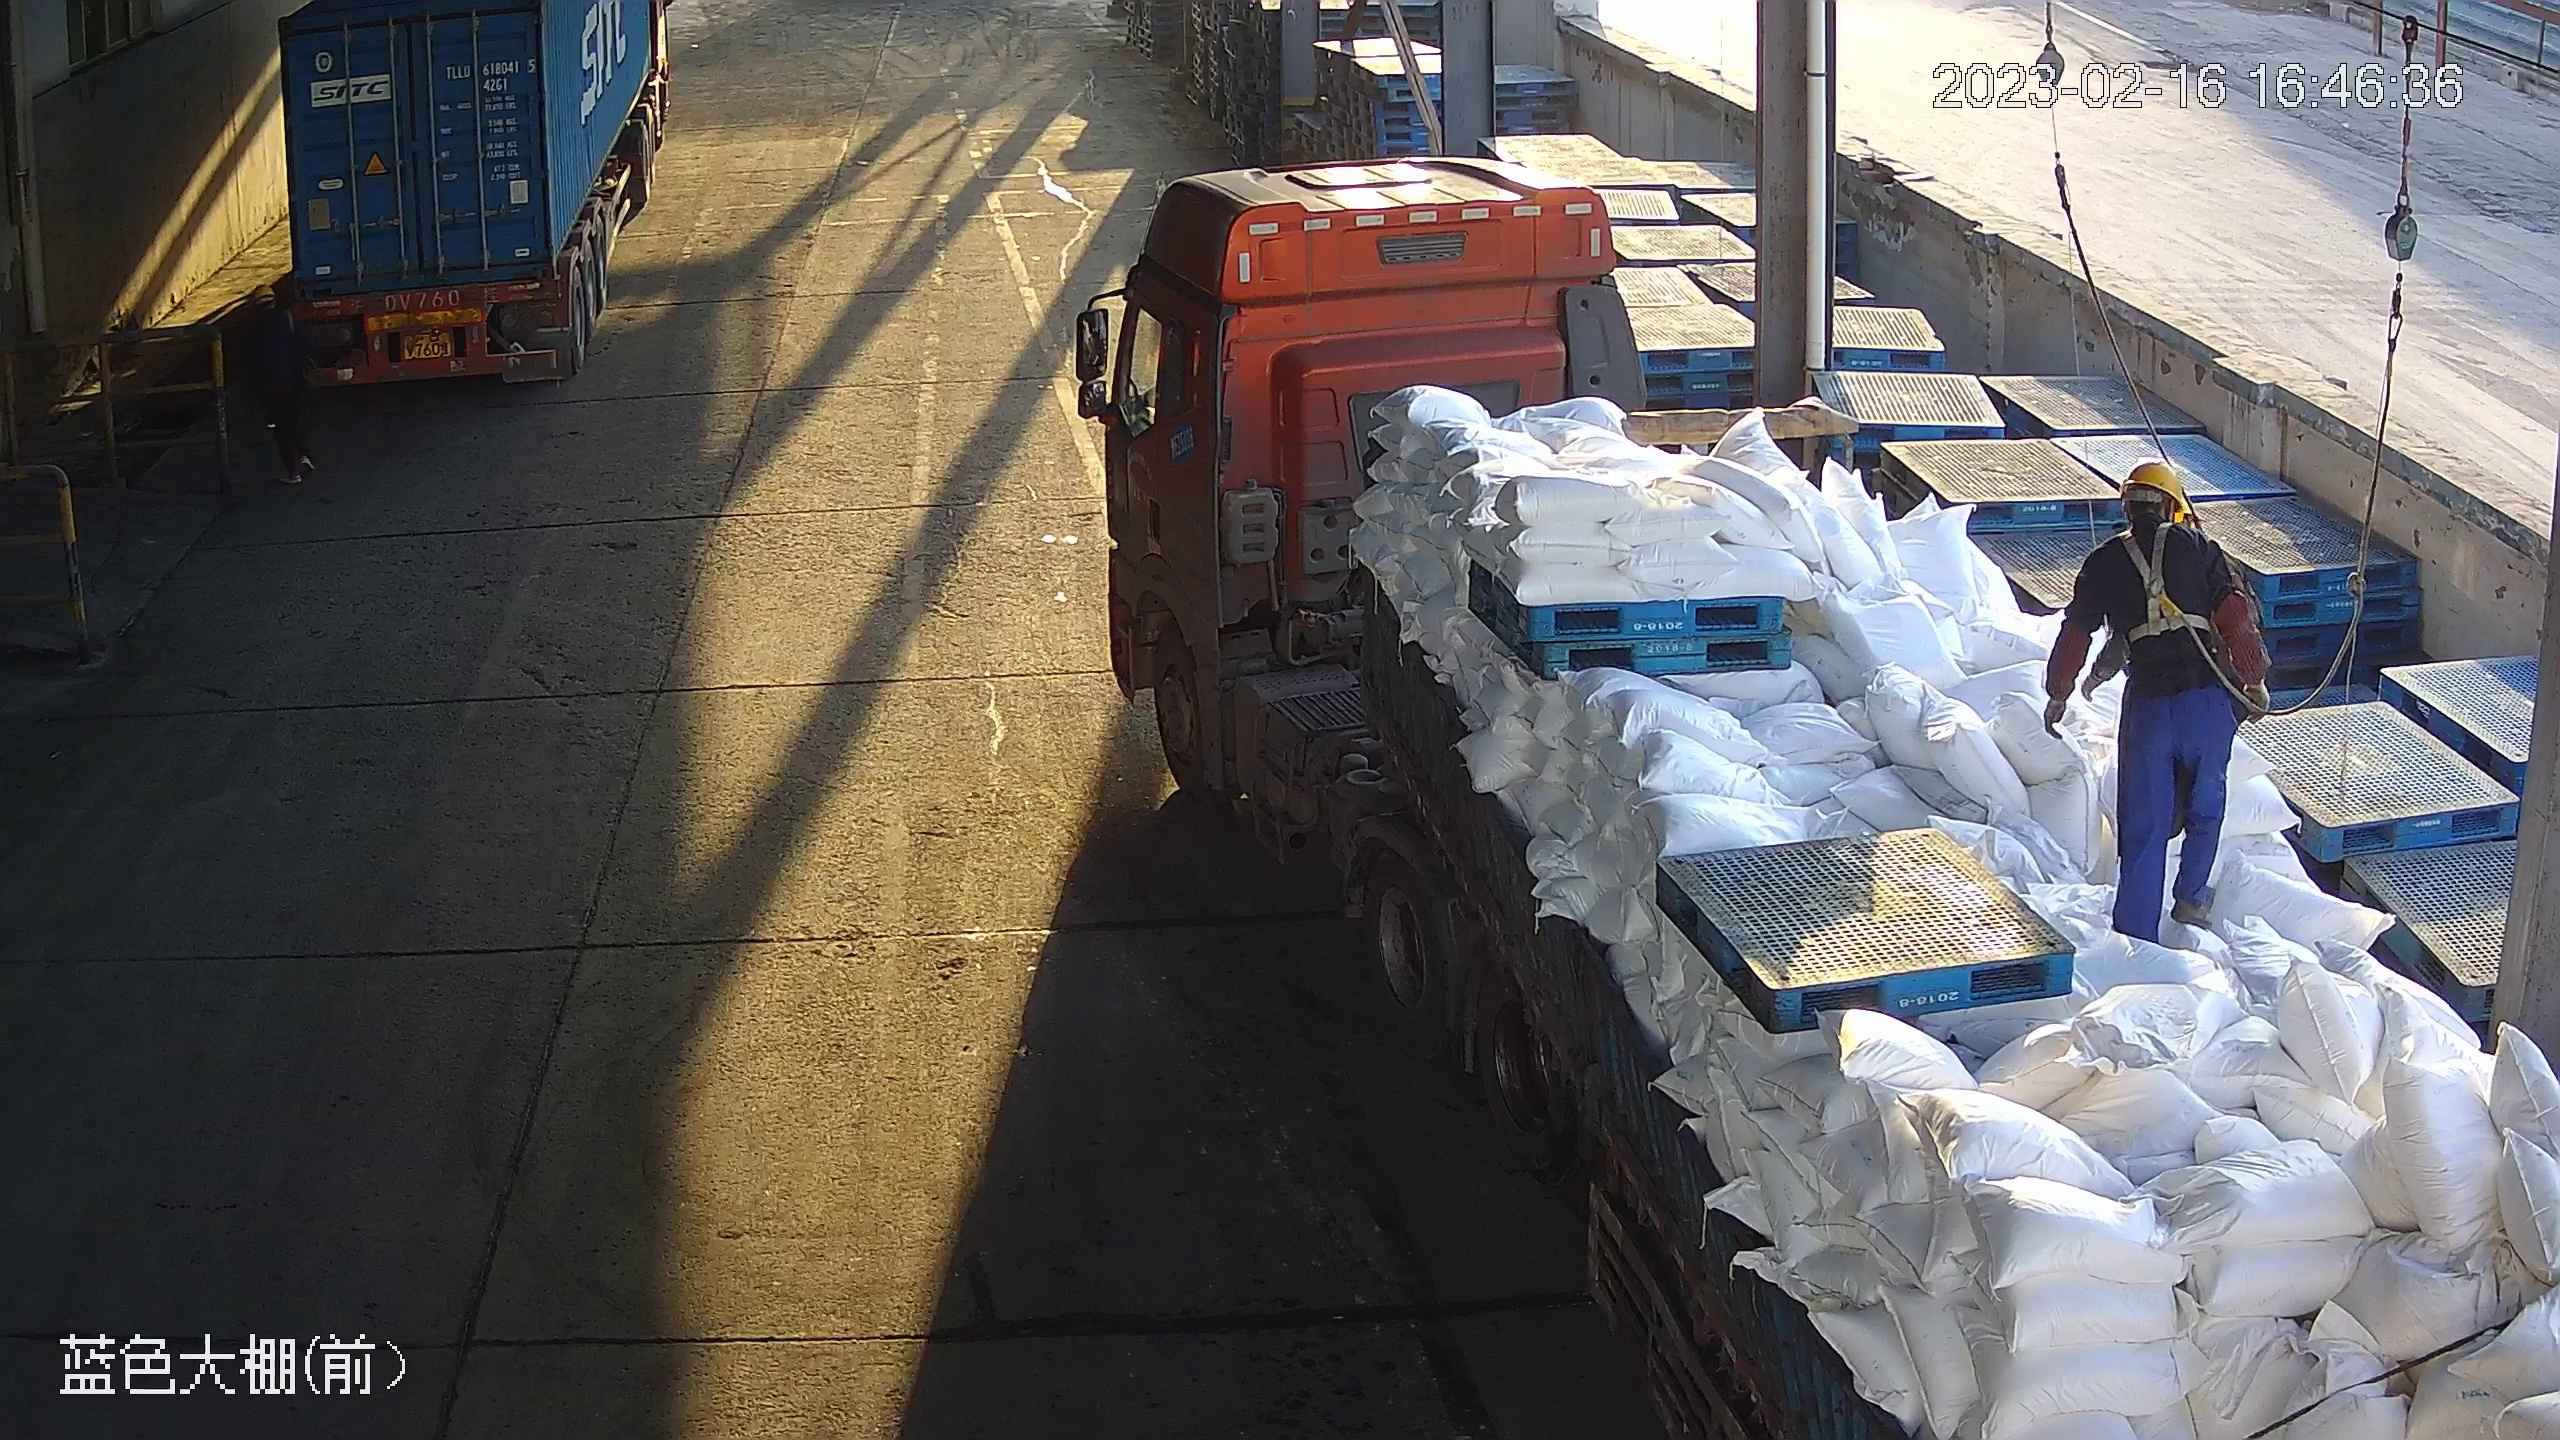belt: (2107, 518, 2213, 638)
head: (2086, 464, 2239, 628), (243, 283, 302, 361)
helmet: (2123, 461, 2187, 508), (250, 284, 275, 303)
people: (2044, 459, 2276, 947), (240, 280, 325, 488)
truck: (1071, 154, 2560, 1440), (269, 1, 674, 391)
